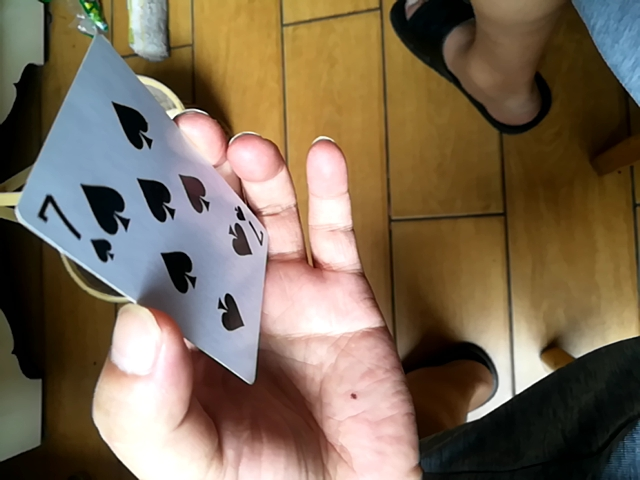ht 7: (8, 32, 282, 389)
